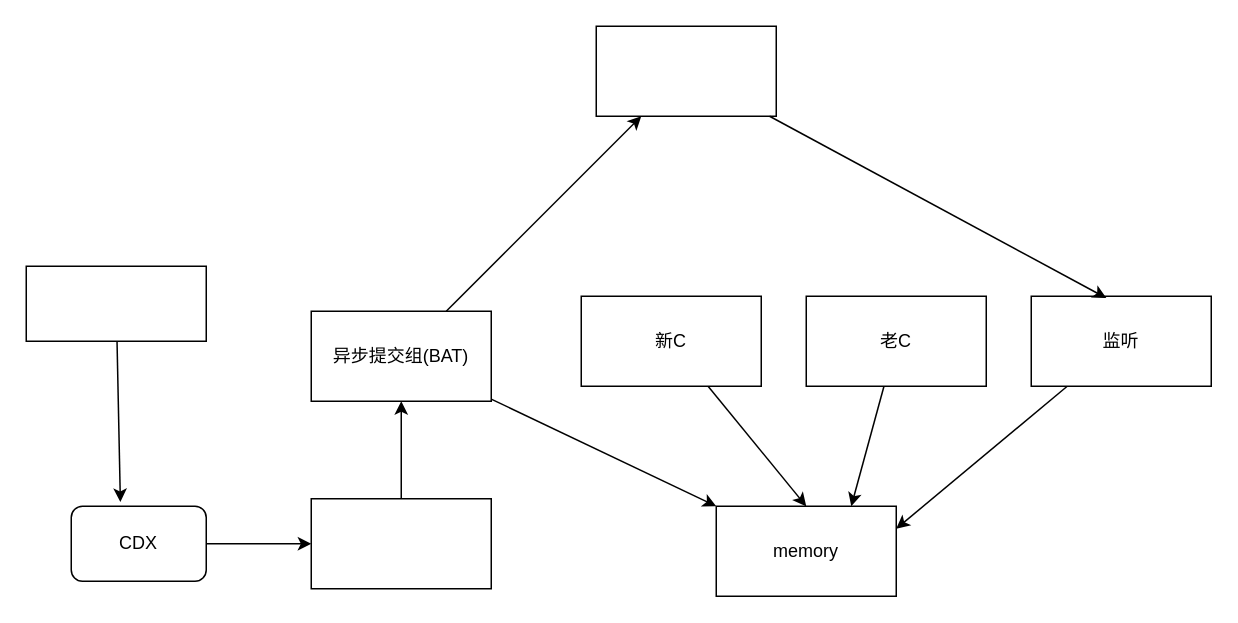
Image size: 1238x623. Some labels were removed from this diagram. Here are the shapes that lost their labels. From the top down, the box of each, then its label:
(595, 25, 776, 116): factory
(25, 265, 206, 341): 指令流转
(310, 497, 491, 589): 本地DATA
